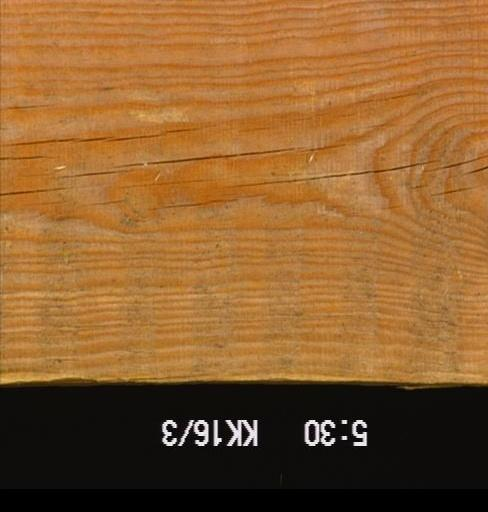split: (230, 158, 436, 190), (112, 146, 296, 168), (108, 123, 198, 143), (123, 173, 224, 188), (427, 148, 486, 173), (148, 196, 236, 212), (0, 135, 111, 147), (125, 370, 213, 381), (0, 186, 64, 196), (435, 184, 480, 197), (58, 170, 135, 177), (75, 197, 130, 206), (3, 103, 59, 109), (0, 154, 55, 160)
